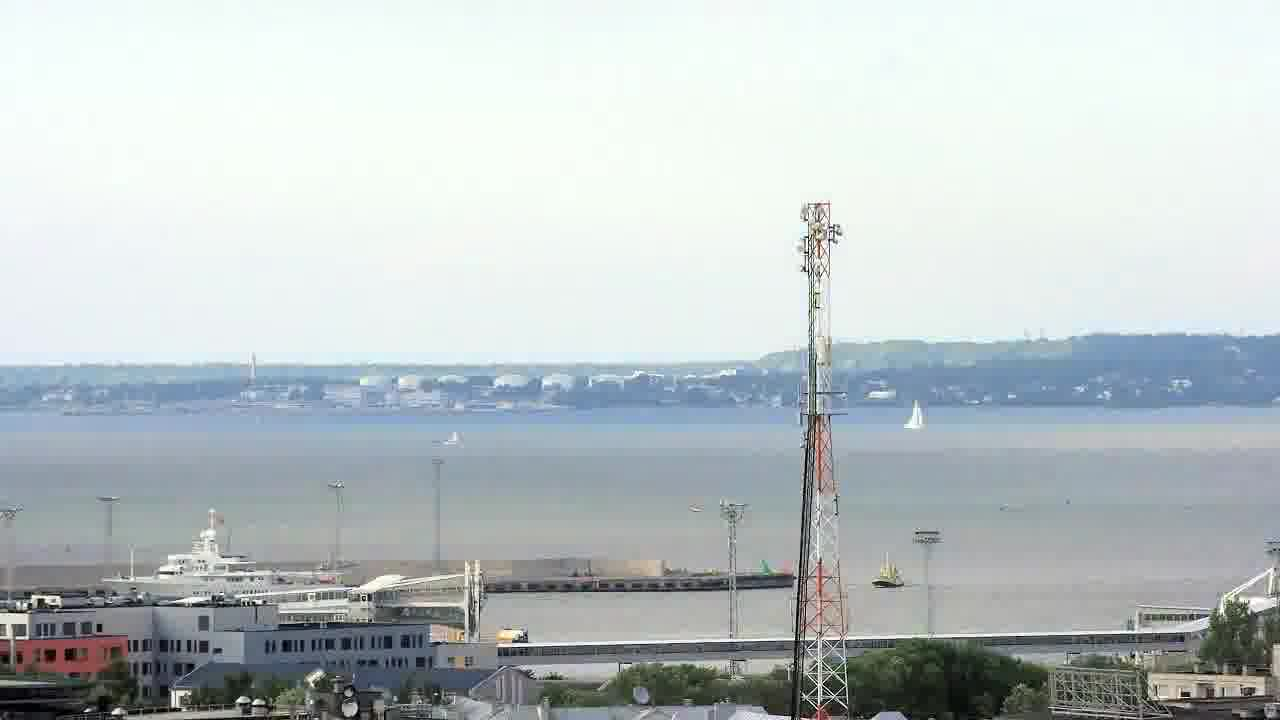type-0: (845, 546, 911, 599)
type-2: (885, 391, 946, 439)
type-3: (88, 507, 346, 605)
